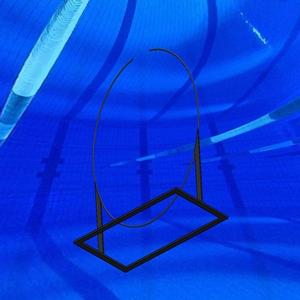circle: (72, 47, 230, 275)
